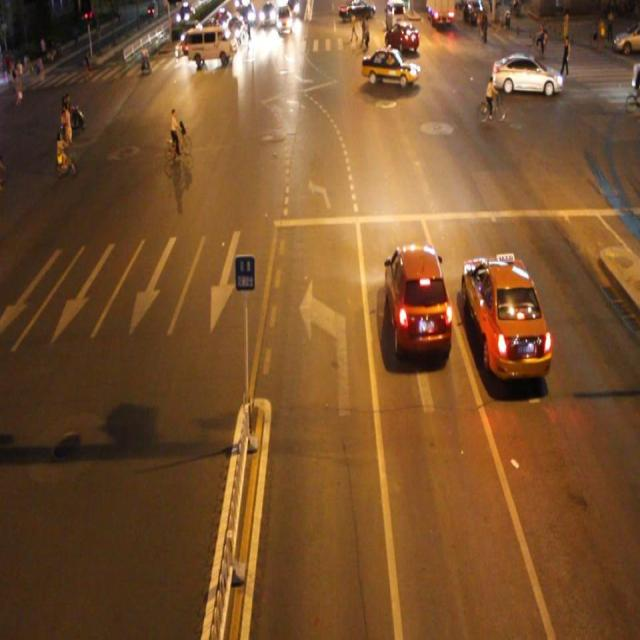car: (462, 256, 549, 378), (384, 245, 450, 357), (490, 53, 561, 101), (360, 46, 418, 90)
truck: (185, 27, 236, 67)
